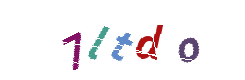0: (109, 0, 189, 80)
7: (73, 0, 153, 80)
D: (93, 0, 173, 80)
L: (81, 0, 161, 80)
T: (93, 0, 173, 80)
